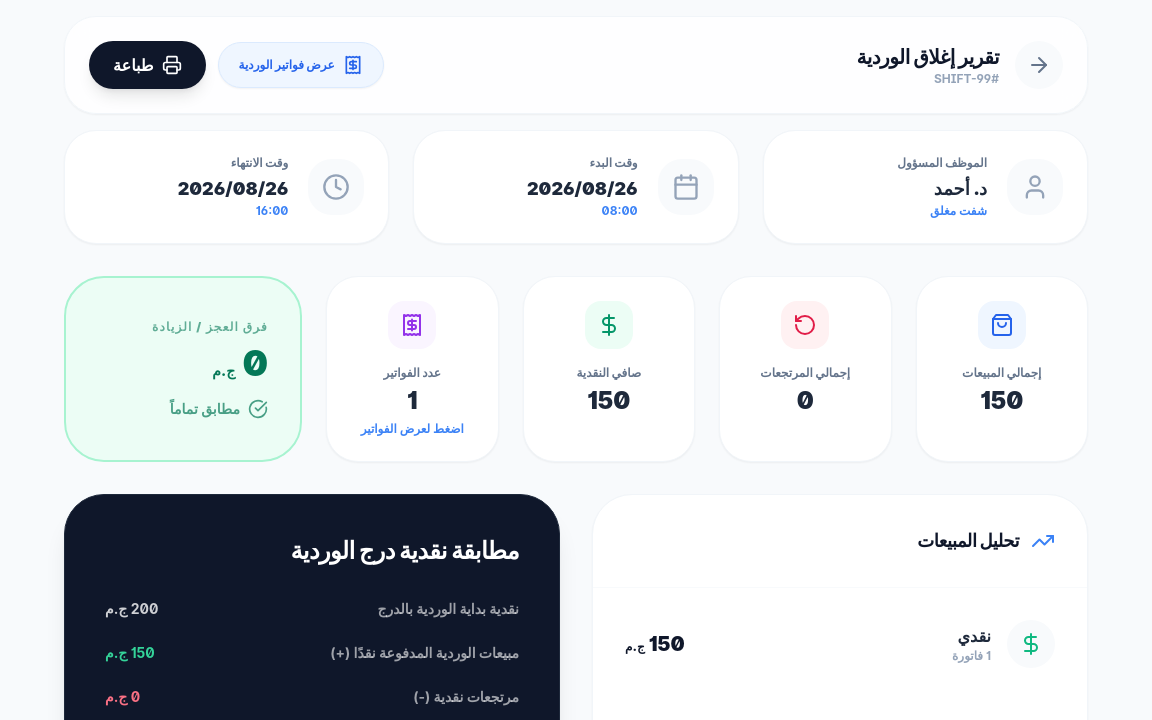
Test case: shift receipts ui wiring › opens shift receipts modal from ShiftReportClient header and statbox
The width and height of the screenshot is (1152, 720).
Expected: the button named "العودة" is shown, [1015, 41, 1063, 89]
What coordinates should you click on to do the following:
click the button "عرض فواتير الوردية"
I would click on:
 (301, 65)
Its box is [218, 42, 384, 88].
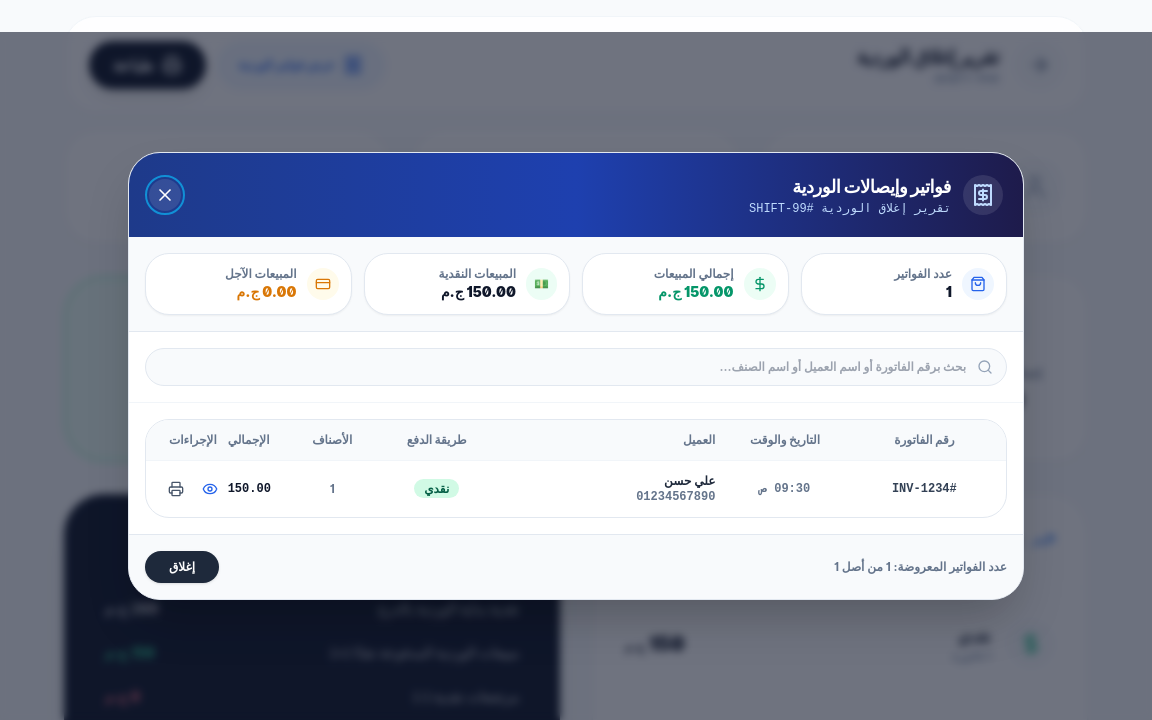
Expected: the heading "فواتير وإيصالات الوردية" is shown, [792, 176, 951, 197]
Expected: the text "علي حسن" is shown, [664, 473, 715, 488]
